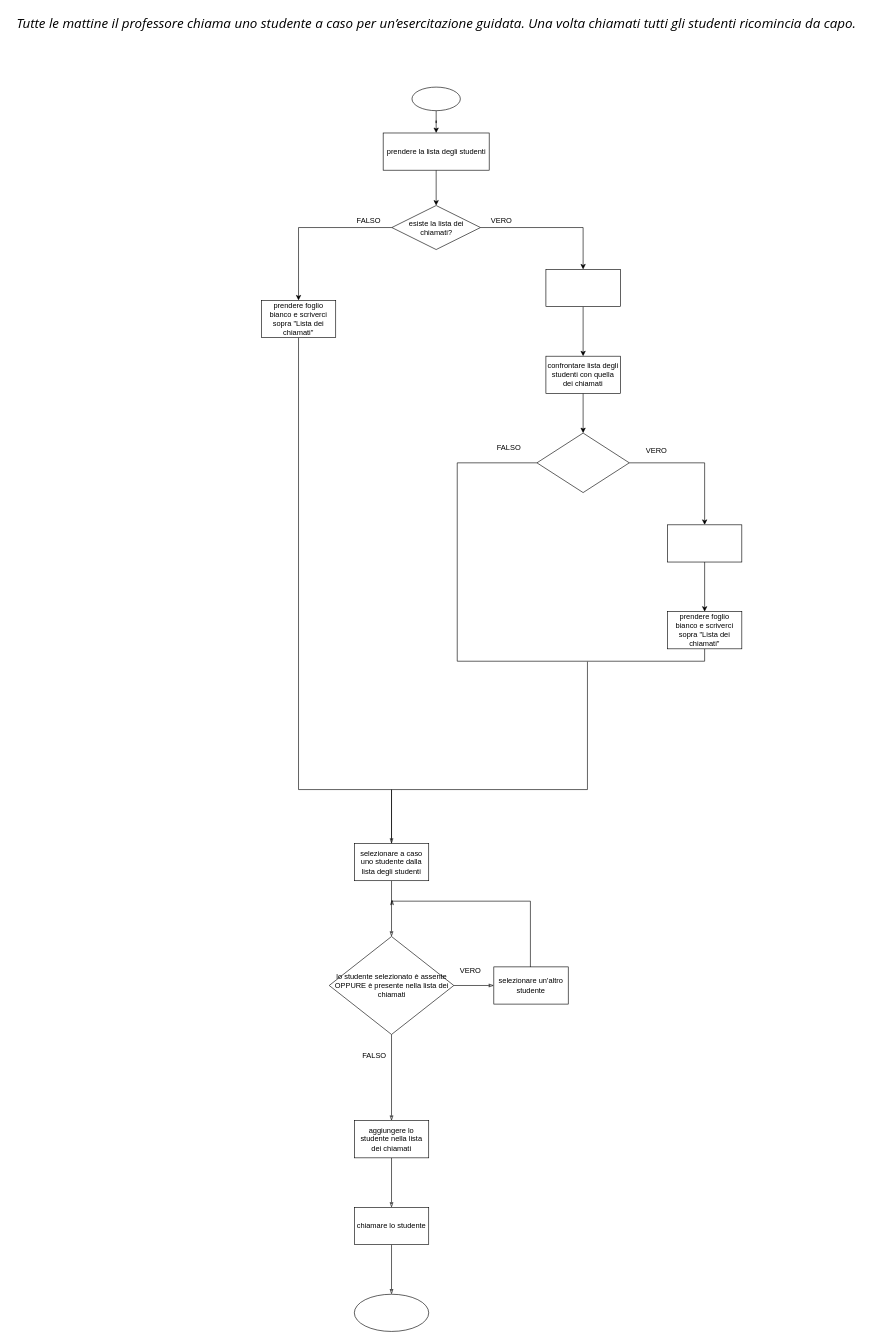
Image size: 872x1342. Some labels were removed from this diagram. The shapes that lost their labels are listed below. From the top down, each one's centre as x and y in pixels, then its label:
point 435,98: INIZIO
point 582,288: prendere la lista dei chiamati
point 582,462: tutti gli studenti sono stati chiamati?
point 704,543: distruggere la lista dei chiamati
point 391,1312: FINE
